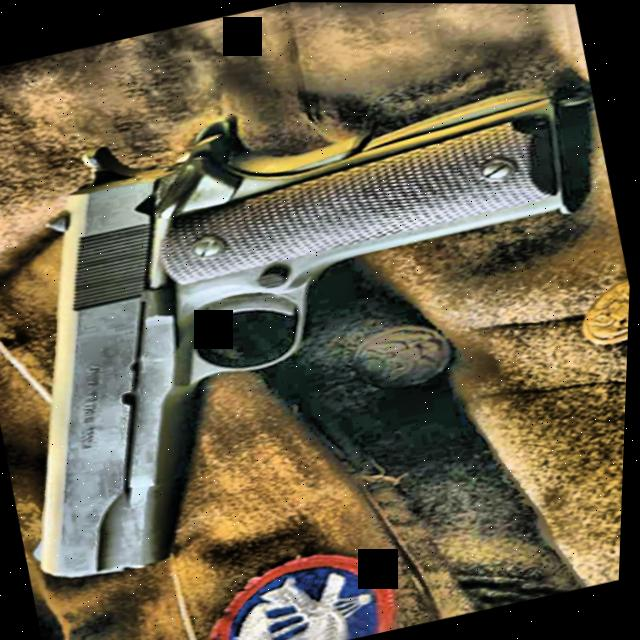Colt m1911: (0, 32, 639, 595)
